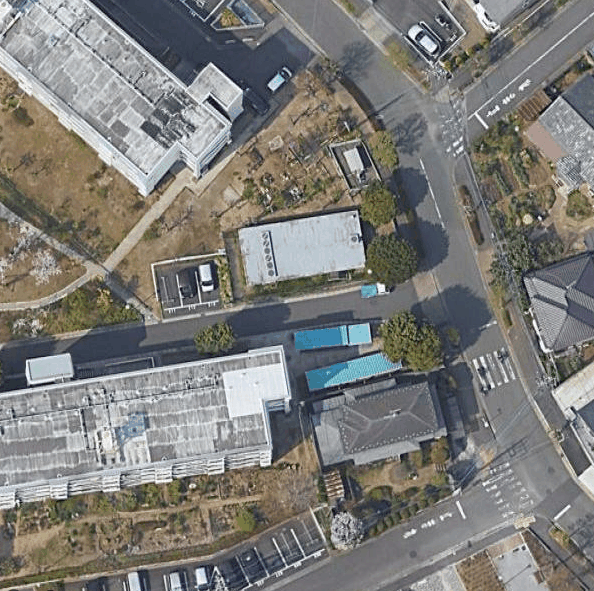flatroof: (13, 1, 230, 208), (0, 350, 293, 490)
